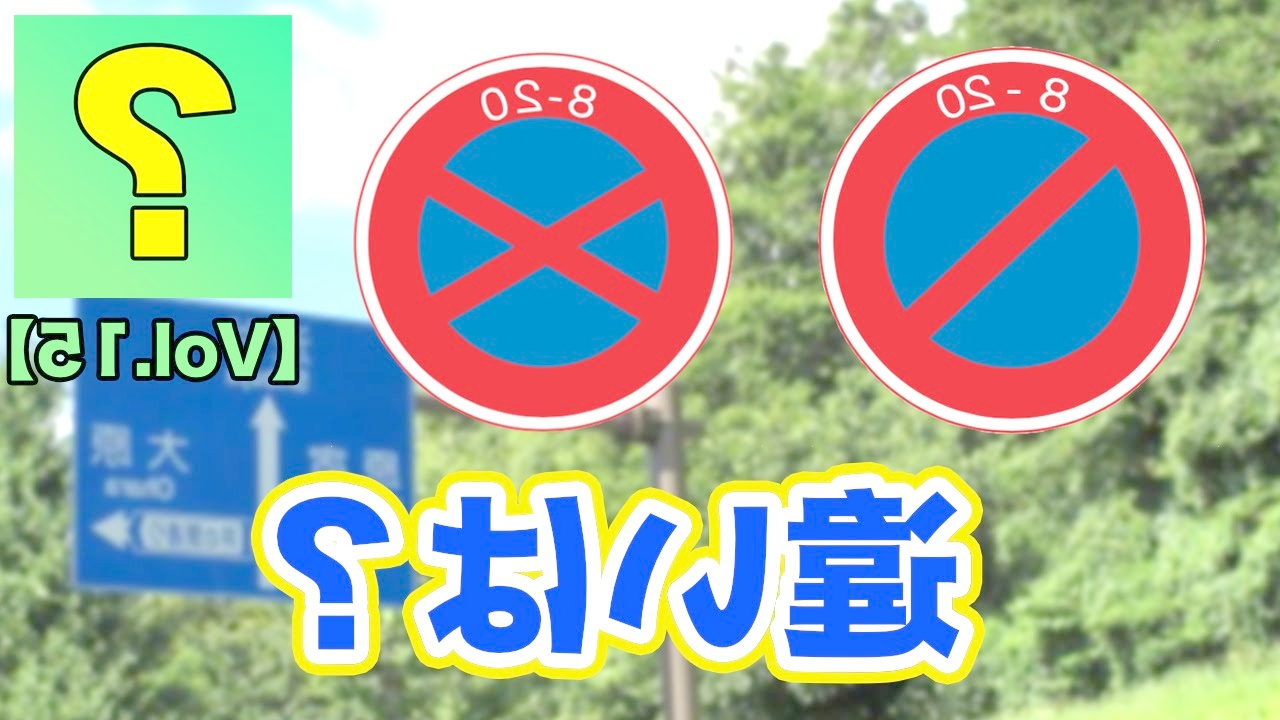Prohibition_sign: (373, 42, 754, 447), (825, 52, 1210, 448)
